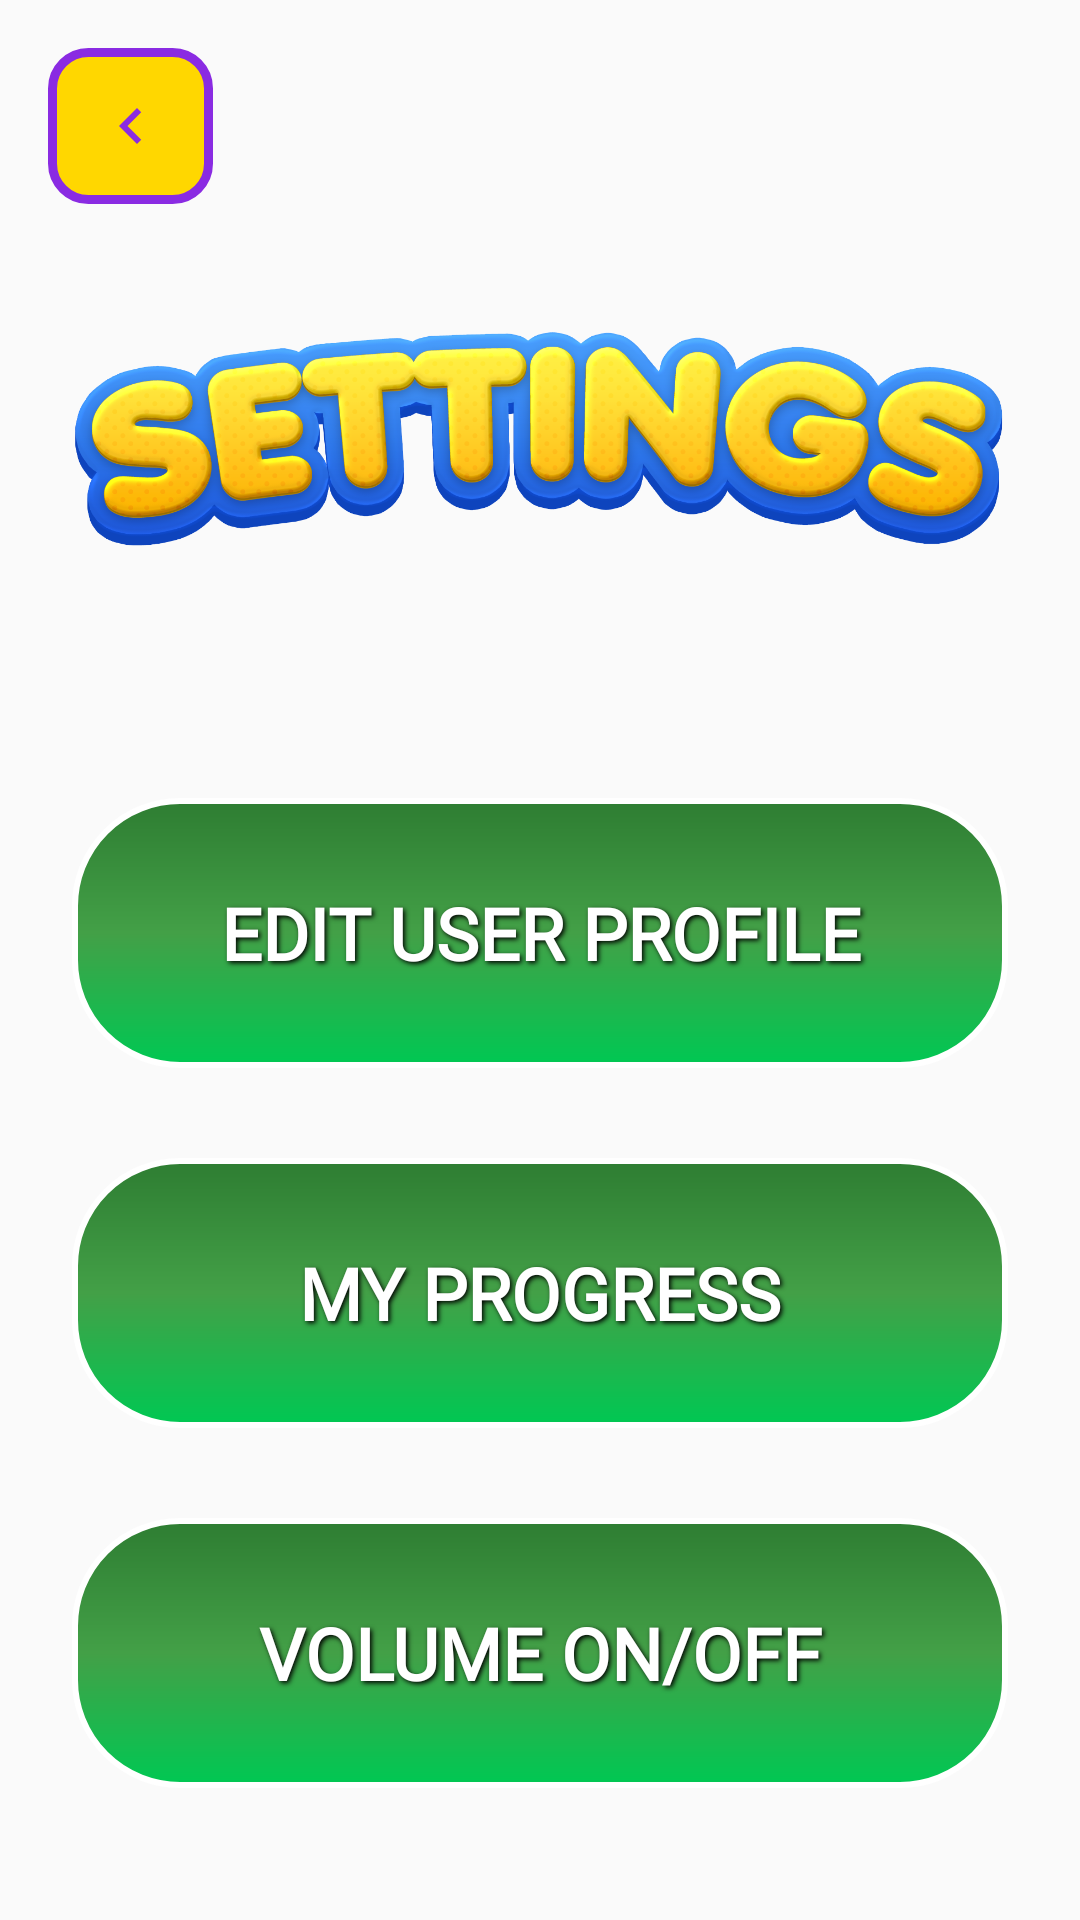

Point at icon controls on the screen. Image size 1080px x 1920px, points as point (x, y).
Back: point (130, 126)
